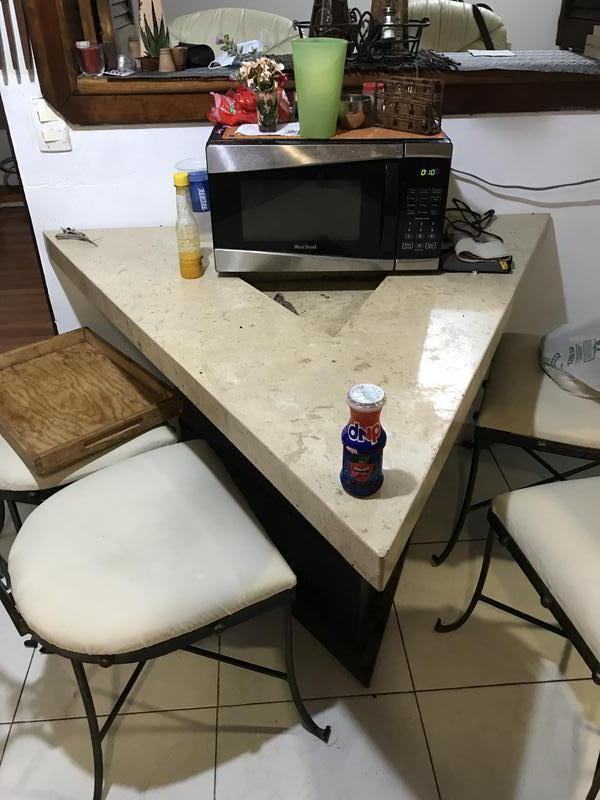danup: (336, 380, 389, 497)
